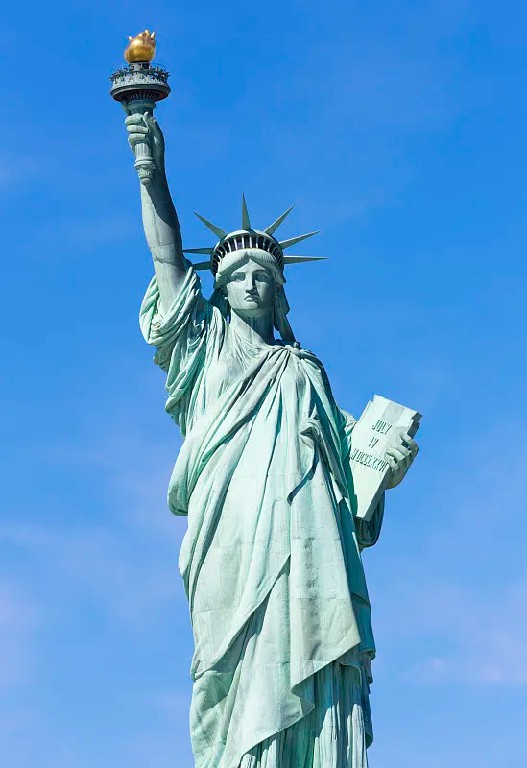SL: (109, 28, 422, 768)
